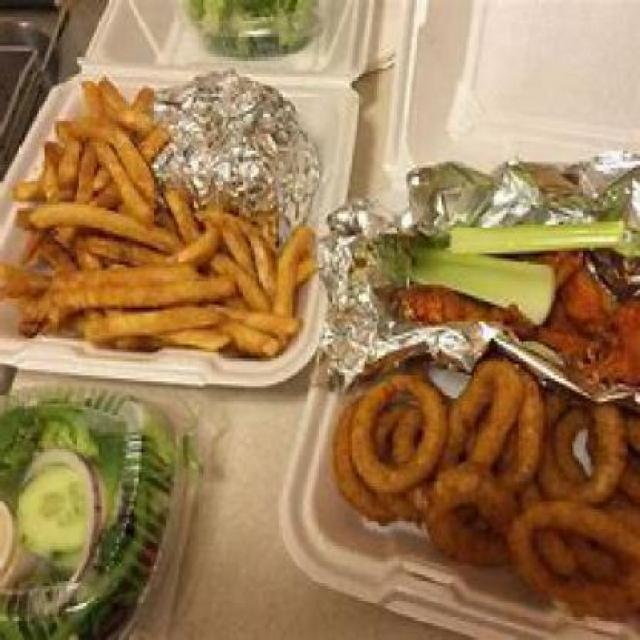french fries: (5, 88, 320, 350)
onion rings: (327, 355, 638, 617)
